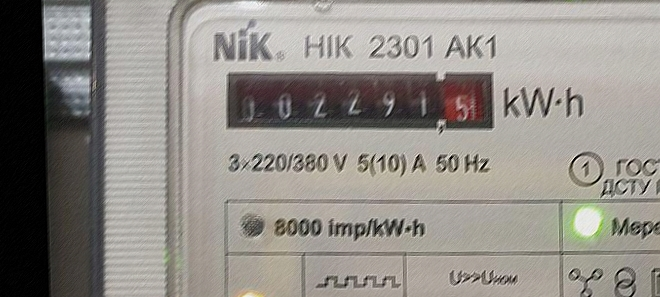0: (237, 91, 256, 120), (275, 90, 292, 119)
1: (414, 85, 429, 120)
2: (310, 89, 327, 118), (345, 86, 359, 115)
5: (452, 91, 469, 122)
9: (379, 87, 396, 117)
screen: (219, 59, 498, 143)
